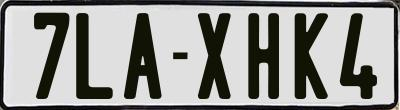4: (338, 11, 377, 98)
7: (33, 10, 71, 98)
A: (122, 13, 165, 100)
H: (246, 10, 279, 100)
K: (292, 10, 326, 101)
L: (76, 11, 113, 100)
X: (196, 13, 232, 99)
